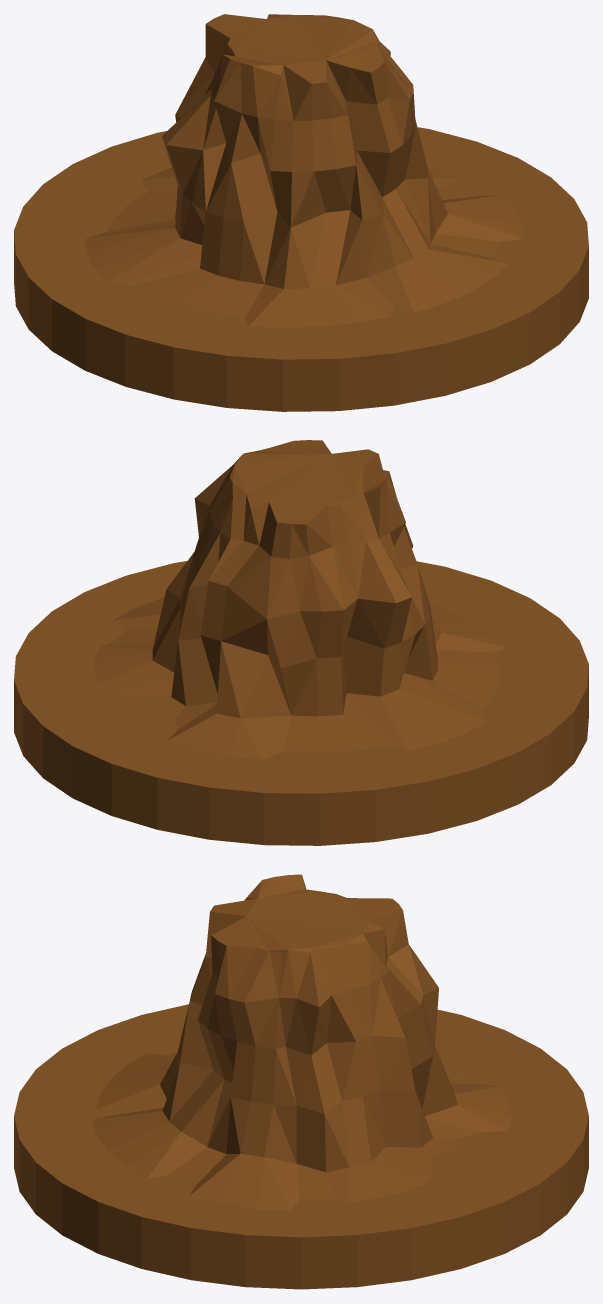
The model's file is butte.dae.
3 renders of one model, top to bottom at view 1: azimuth 30°, elevation 25°; view 2: azimuth 150°, elevation 25°; view 3: azimuth 270°, elevation 25°, orthographic.
Visible parts, largest first — view 1: Sphere; view 2: Sphere; view 3: Sphere.
Part boxes in pixels (bbox=[...]): Sphere: bbox=[14, 14, 588, 411]; Sphere: bbox=[14, 440, 588, 845]; Sphere: bbox=[14, 874, 588, 1289].
Bounding box in the file's own units: 1000 × 1000 × 489.
